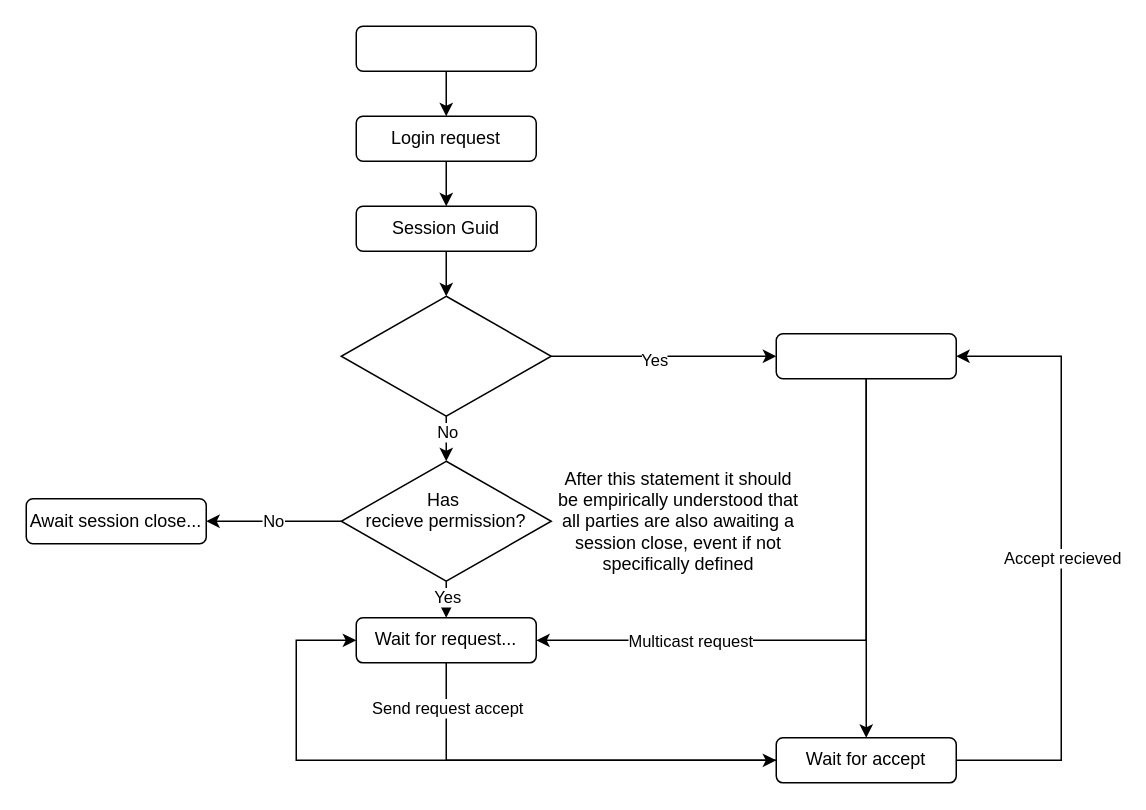
This 1146x810 diagram has some shape labels left out. The shapes that lost their labels are listed below. From the top down, each one's centre as x and y in pixels, then its label:
the point at 445,48: Connection
the point at 445,355: Has request permission?
the point at 865,355: Send emergency request
